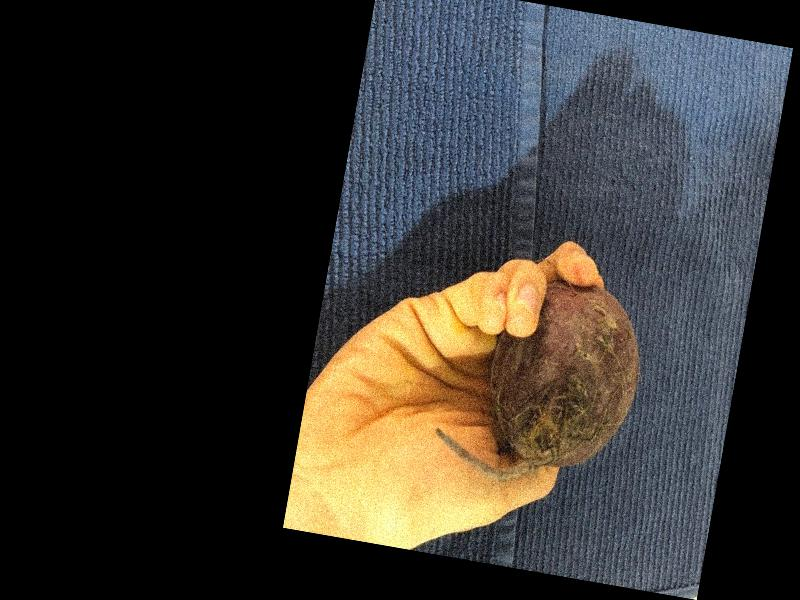Beet: (426, 262, 650, 498)
